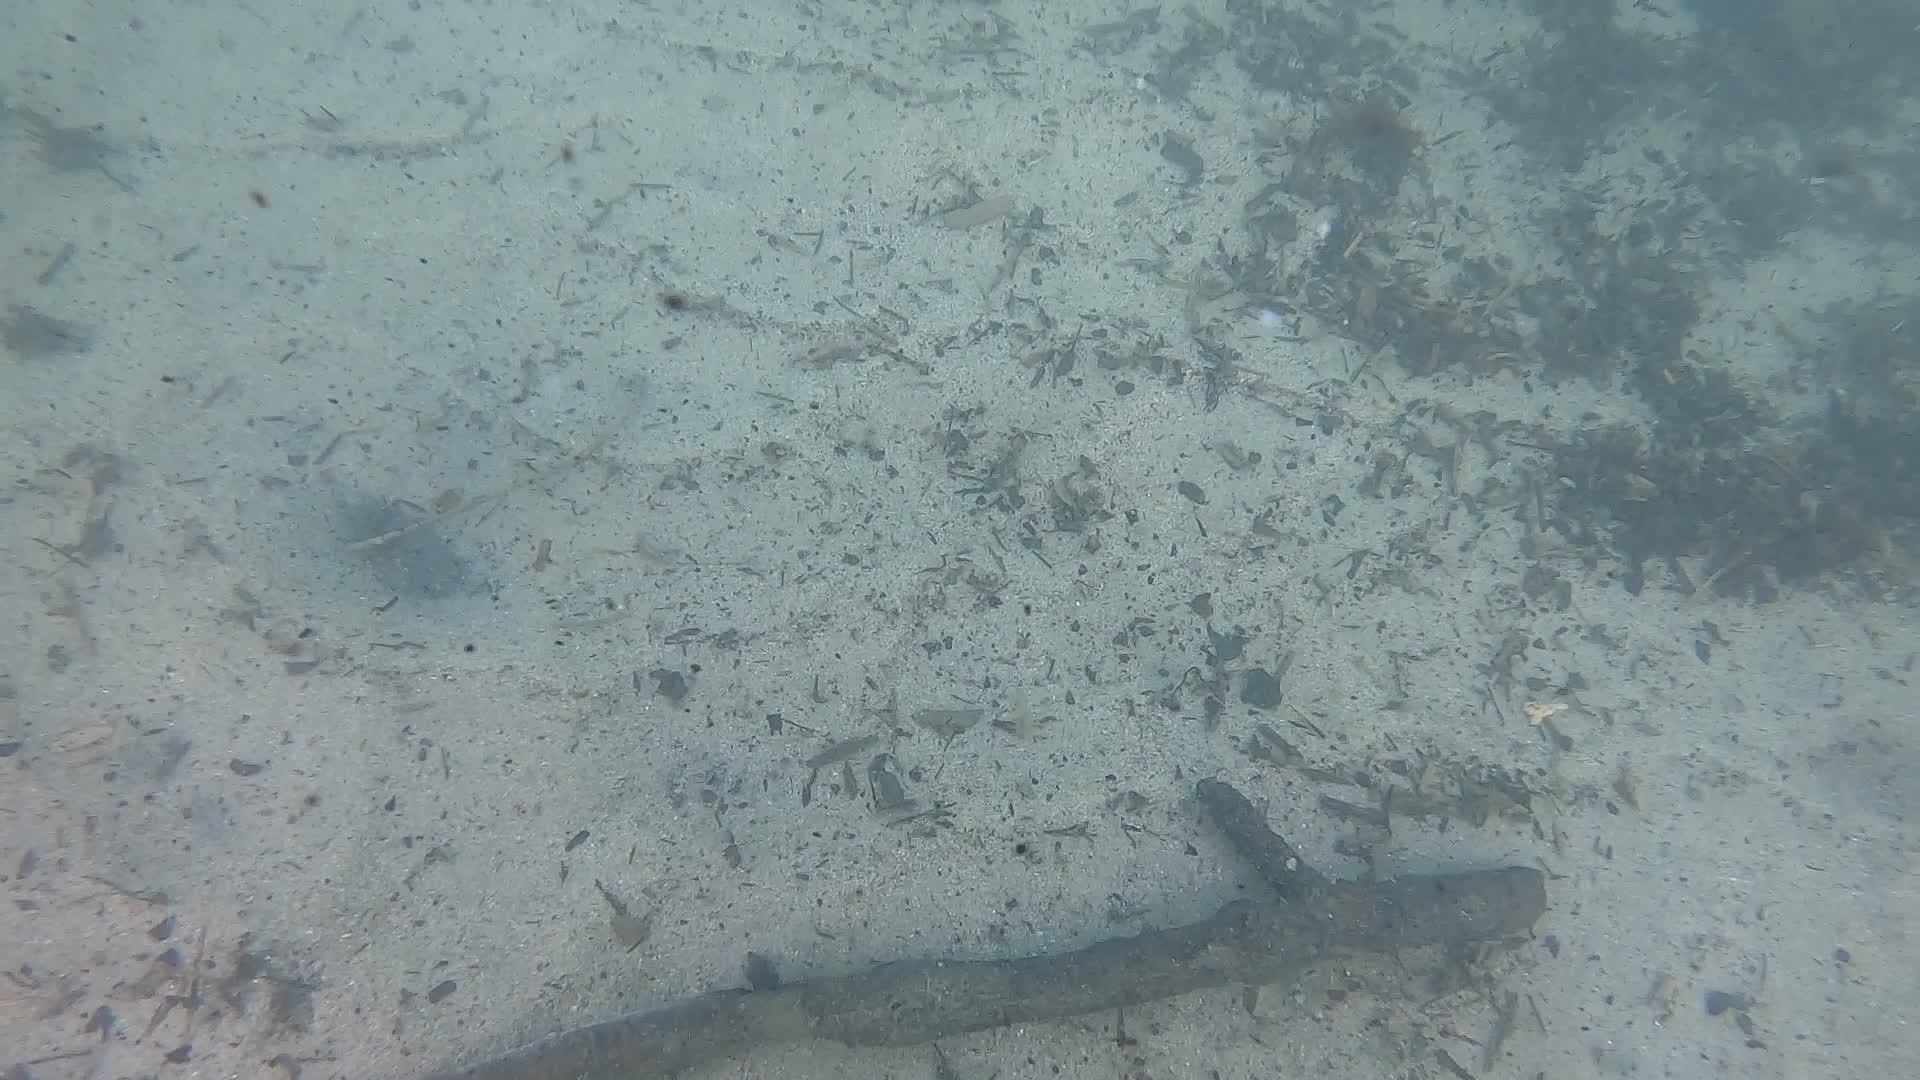wood: (433, 781, 1547, 1080)
